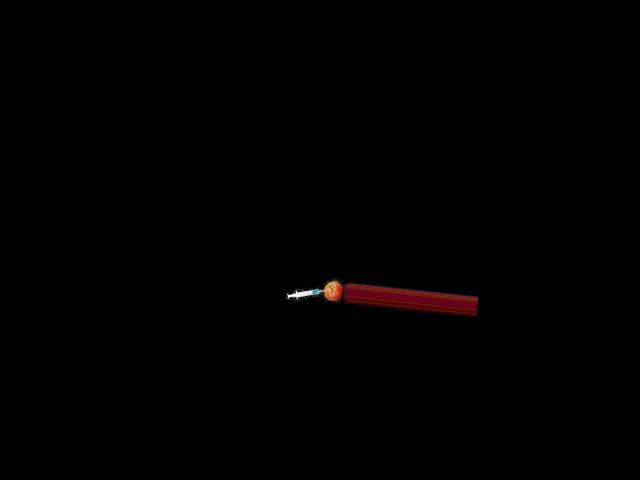tomato: (323, 280, 343, 302)
